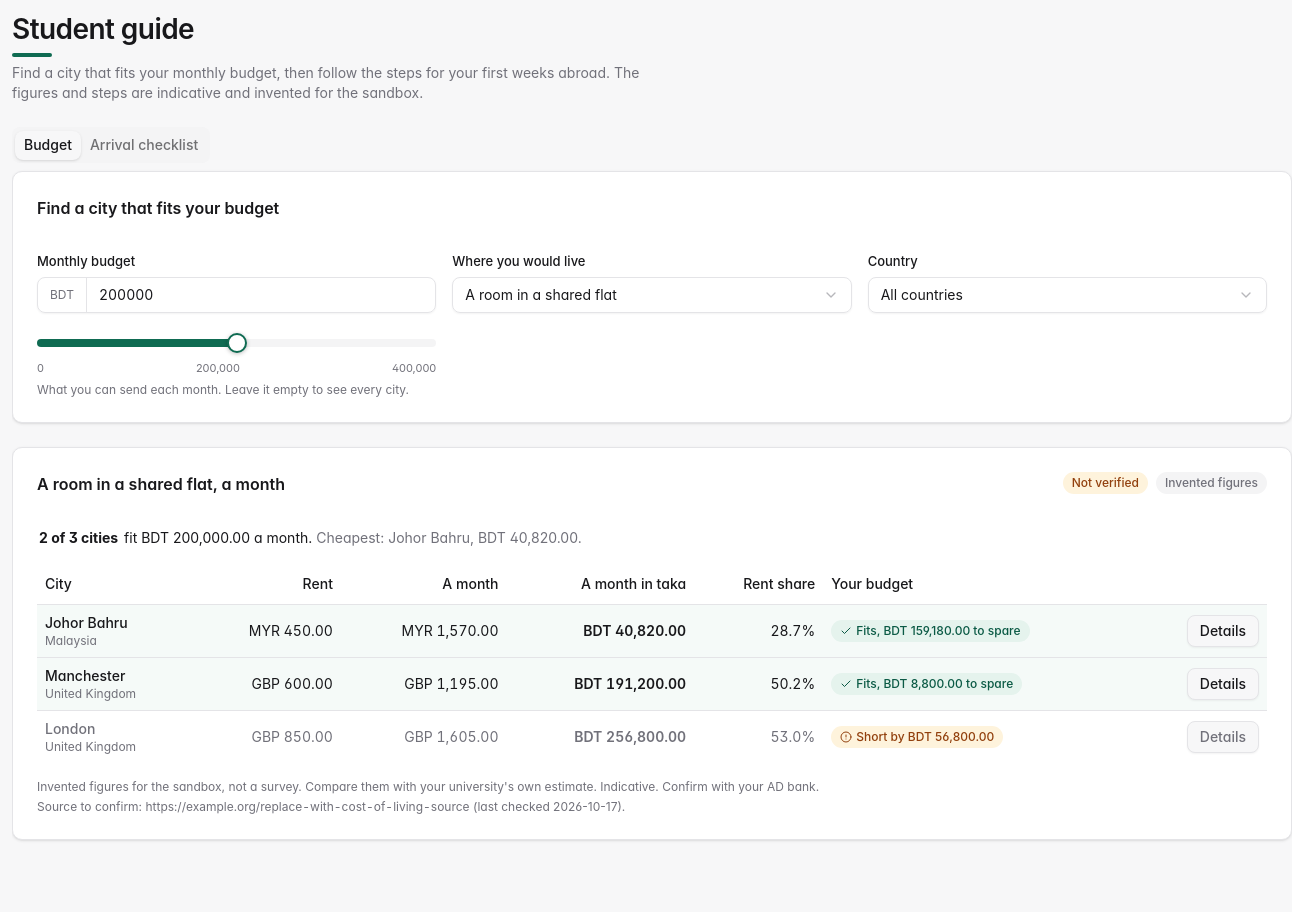
Scenario: student guide: the arrival checklist › lists the steps by stage with a hint on each
Click the tab "Arrival checklist": {"x": 144, "y": 145} [81,130,207,160]
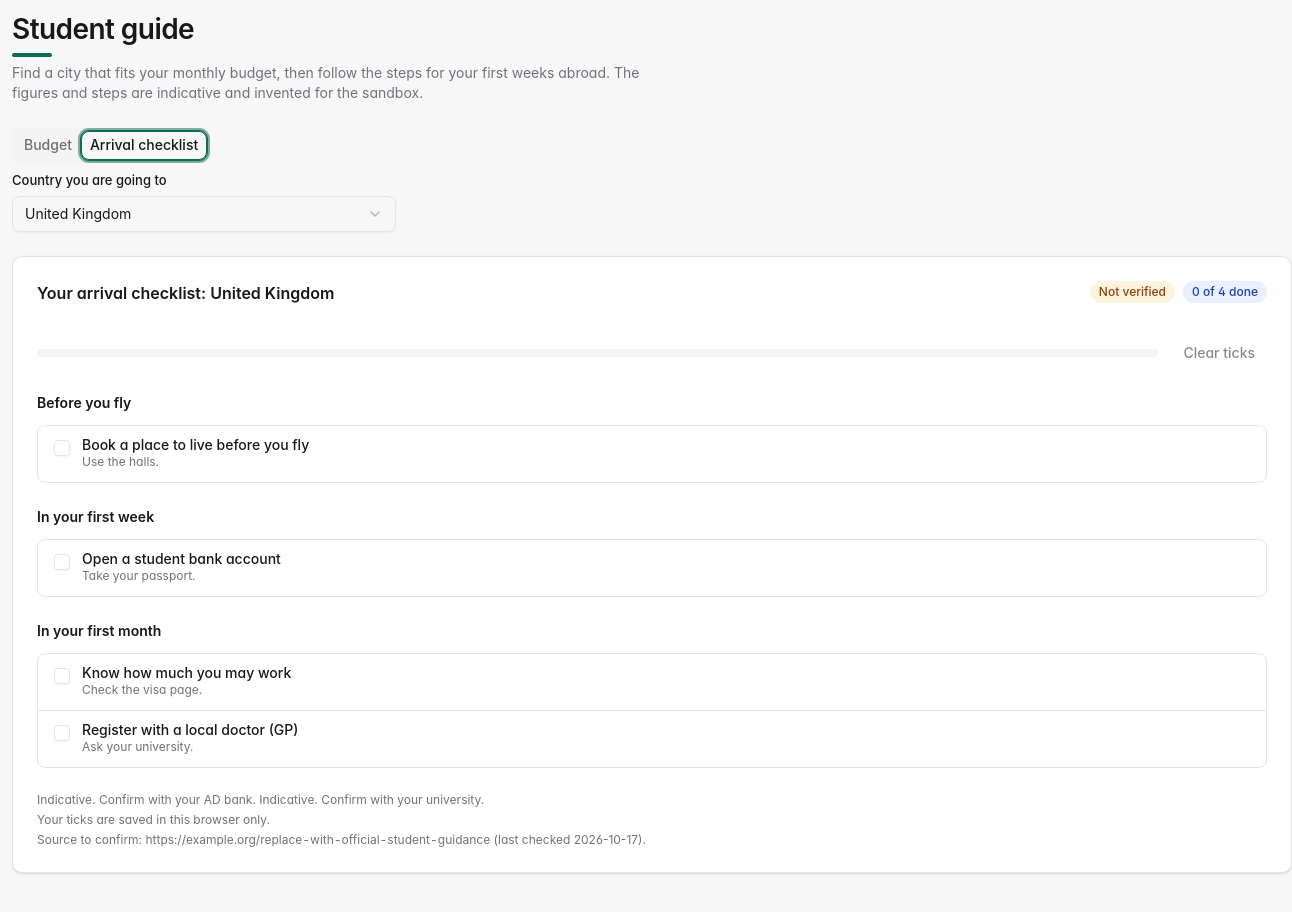
Check: the heading "Before you fly" is shown, box [37,394,131,411]
Check: the heading "In your first week" is shown, box [37,508,154,525]
Check: the heading "In your first month" is shown, box [37,622,161,639]
